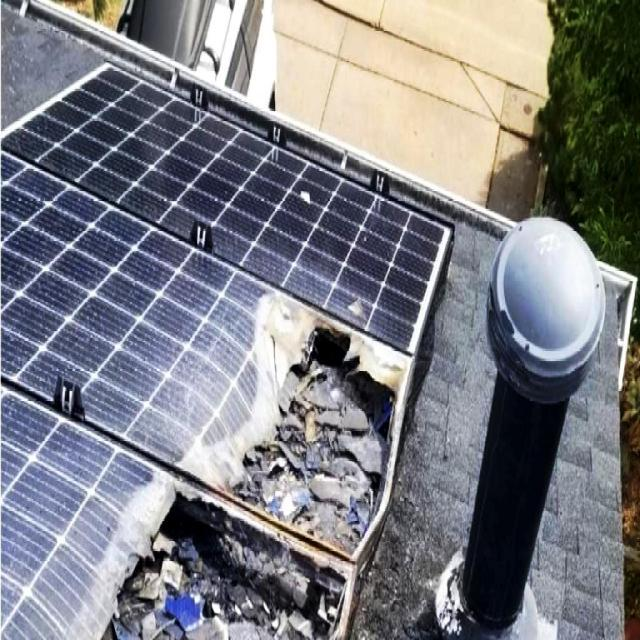faulty: (3, 61, 449, 640)
